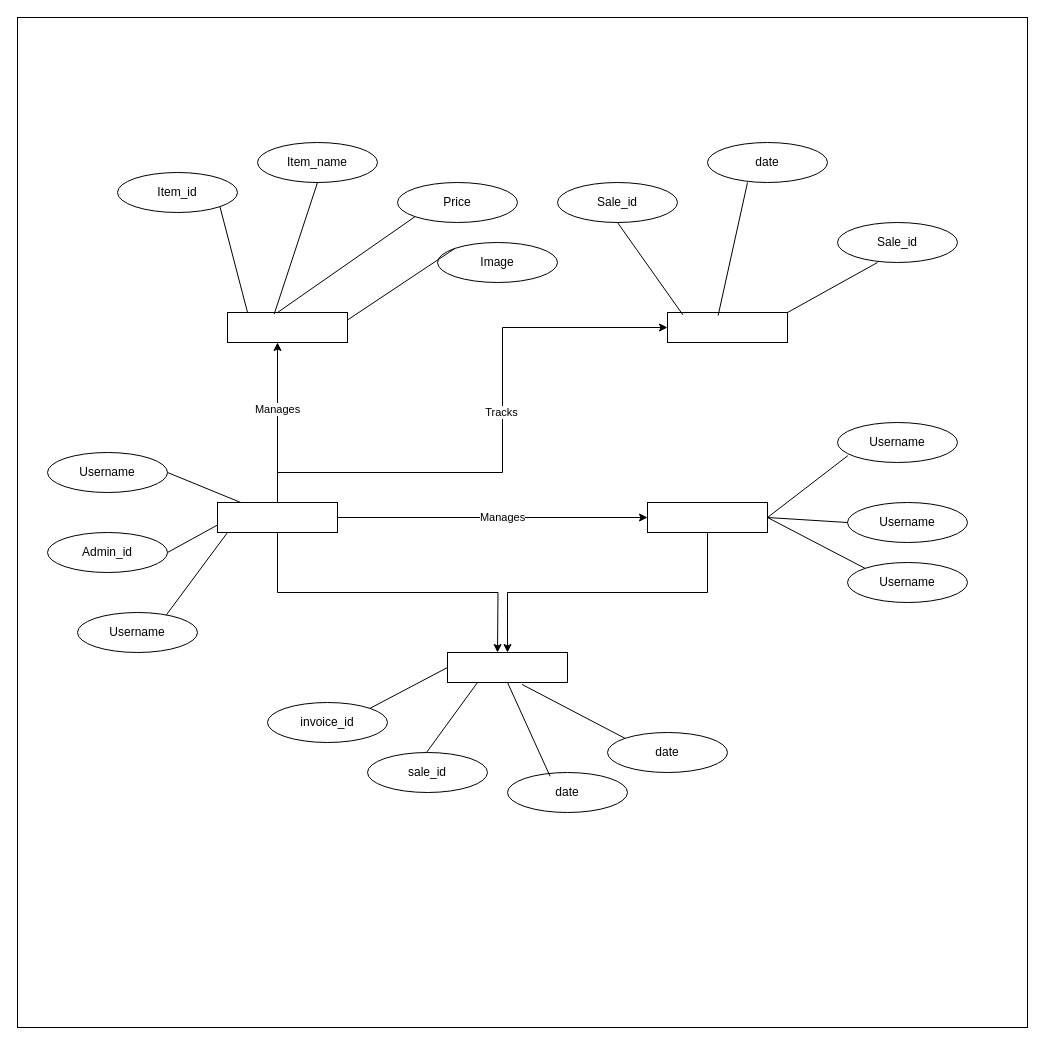
Some shapes in this 1045 by 1045 pixel diagram are drawn without their labels. Each missing label, with the centre of its shape:
"Admin" goes at point 277,517.
"Invoice" goes at point 507,667.
"Menu" goes at point 287,327.
"Sale" goes at point 727,327.
"Staff" goes at point 707,517.
